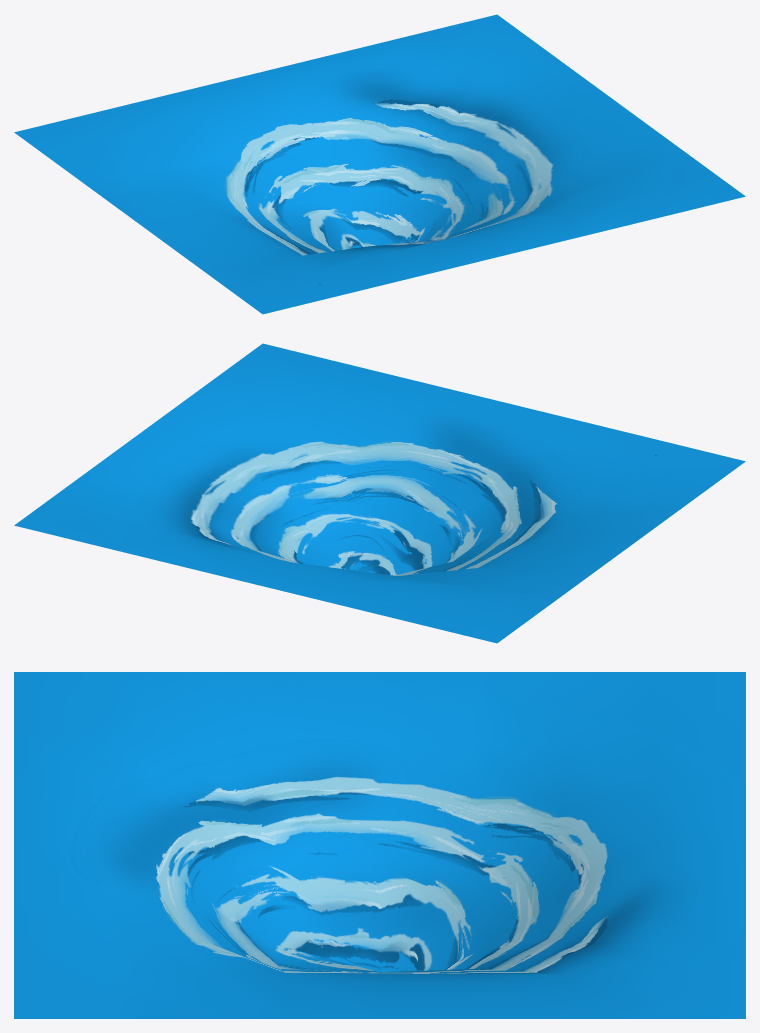
Rendered from Whirlpool Custom.FBX.
3 views of the same model, one above another, from view 1: azimuth 30°, elevation 25°; view 2: azimuth 150°, elevation 25°; view 3: azimuth 270°, elevation 25° (orthographic). The views are drawn at different scales.
Parts seen in each view (by area): view 1: Plane001; view 2: Plane001; view 3: Plane001.
Boxes of the visible parts, box(x1,y1,x2,y2) form: Plane001: box(14, 14, 745, 314); Plane001: box(14, 343, 745, 643); Plane001: box(14, 672, 745, 1018).
Size of the model in its own units: 87.6 by 18.66 by 78.11.
1 material, 1 textured.
